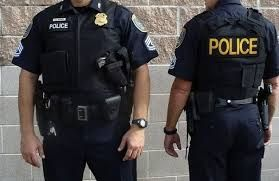gun: (253, 80, 279, 134)
uniform: (25, 5, 143, 171), (177, 9, 274, 171)
